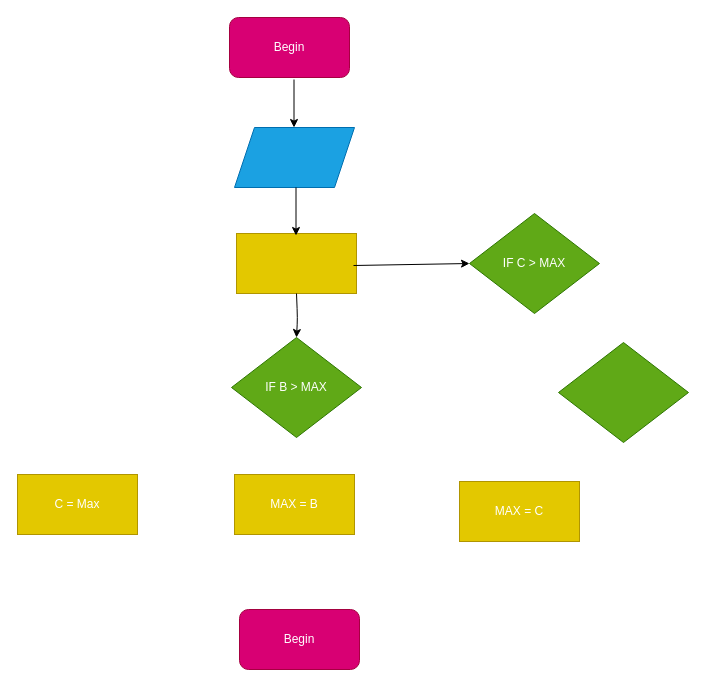
The diagram is 706 pixels wide and 687 high, and some of its shapes have lost their labels. Here are the shapes that lost their labels. From the top down, the box of each, then its label:
(234, 126, 354, 188): Input A B C
(236, 232, 356, 294): A = Max
(558, 342, 688, 442): IF C > B
